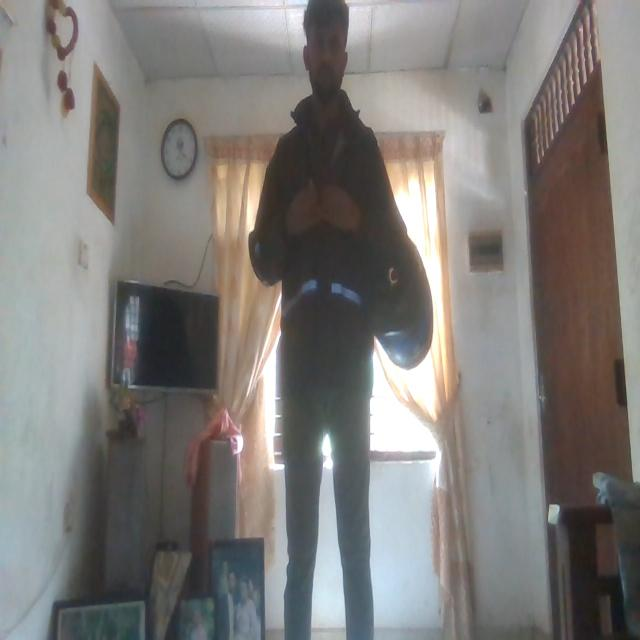Jacket_Wearer: (247, 98, 399, 434)
Person: (243, 18, 399, 640)
